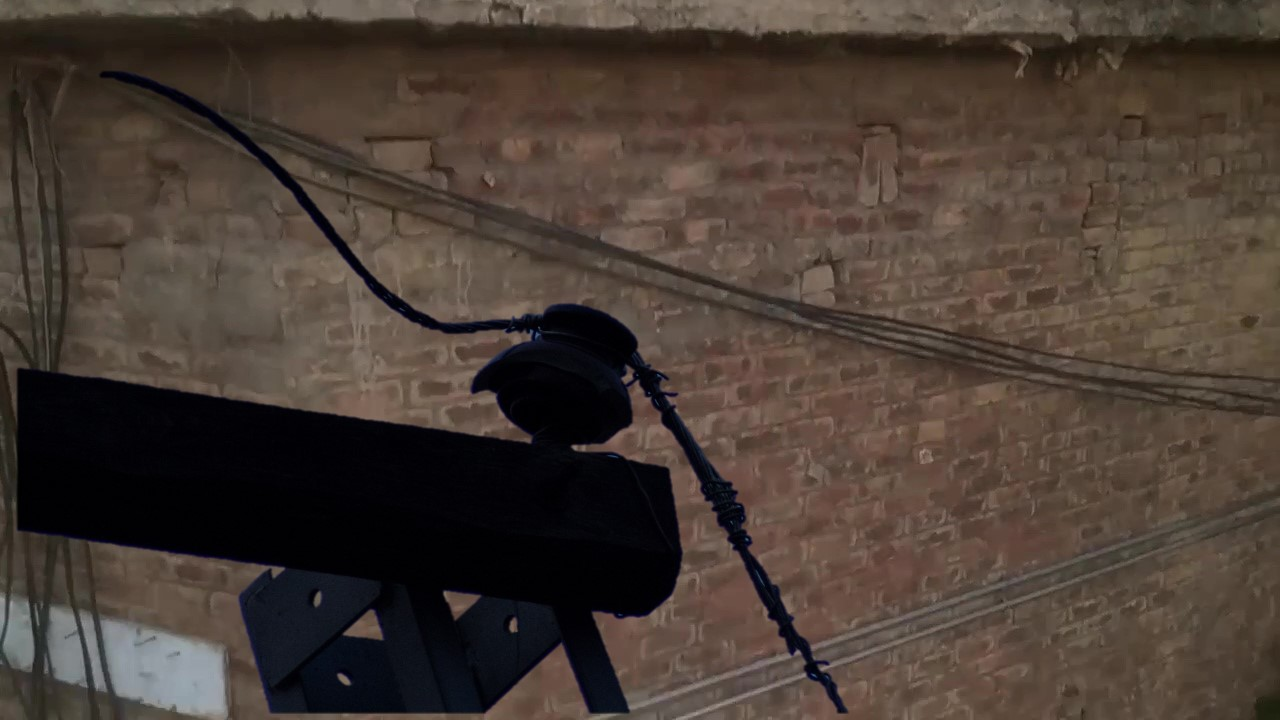defect_pin: (468, 299, 646, 455)
